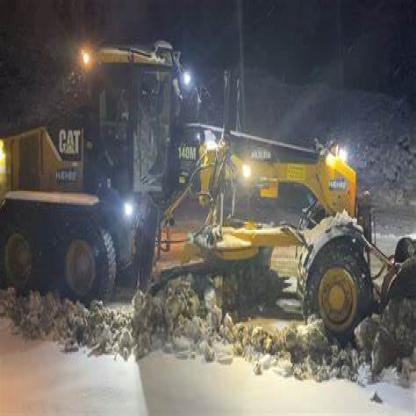bull_dozer/loader/grader: (5, 34, 388, 344)
